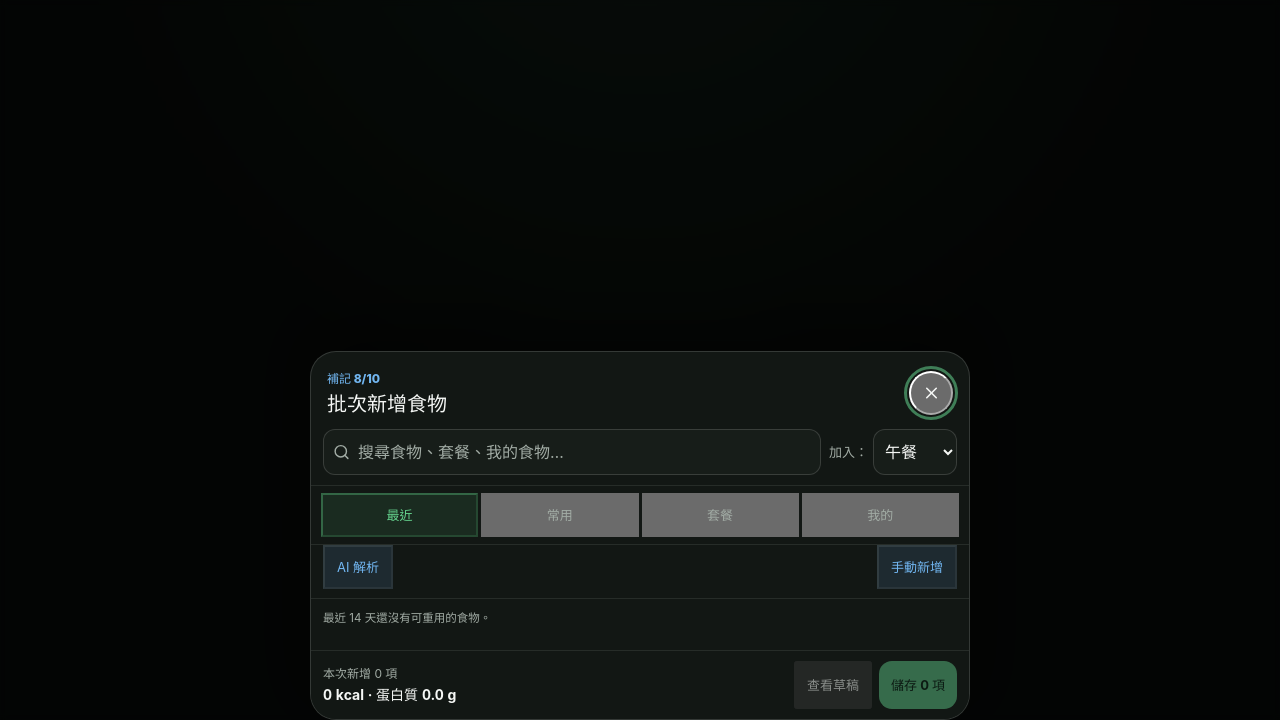
Test: FoodAddSheet batch draft interactions › always lets a search query become a prefilled manual food
Type "自製雞肉捲" into the field with placeholder "搜尋食物、套餐、我的食物…" at (572, 452), box [323,429,821,475]
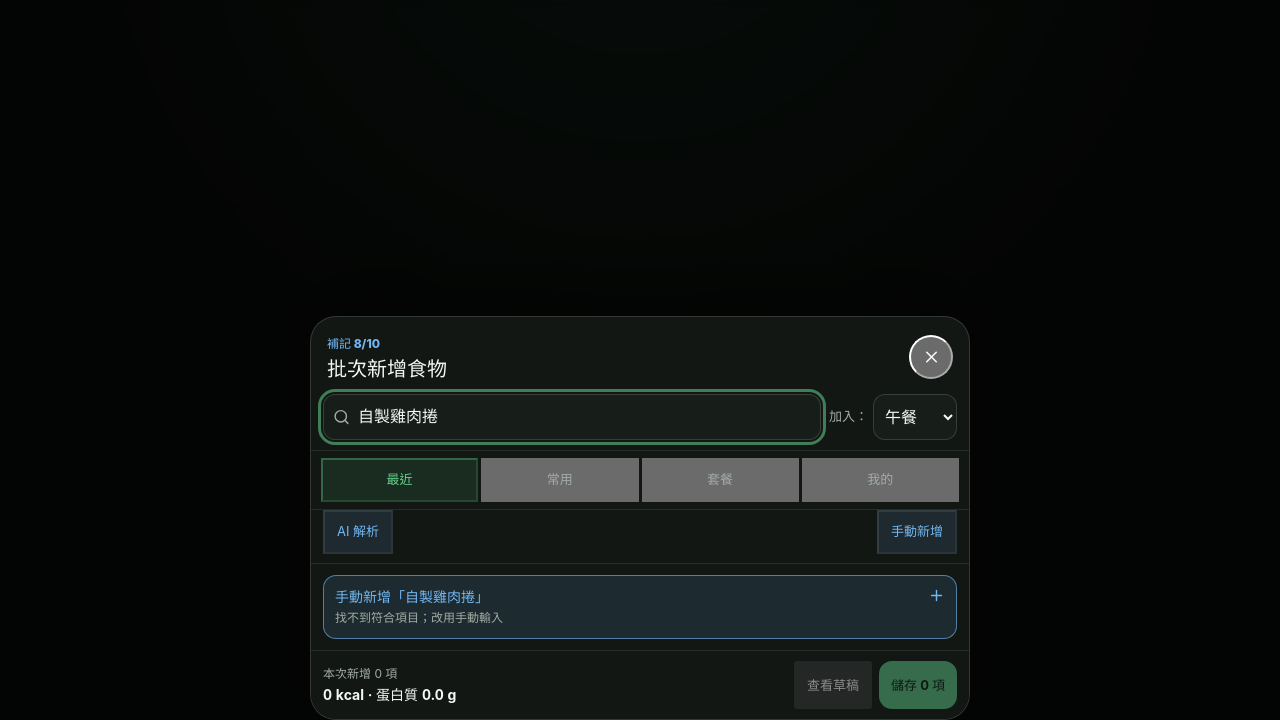
Click the button "手動新增「自製雞肉捲」 找不到符合項目；改用手動輸入" at (370, 596), box [323,575,957,639]
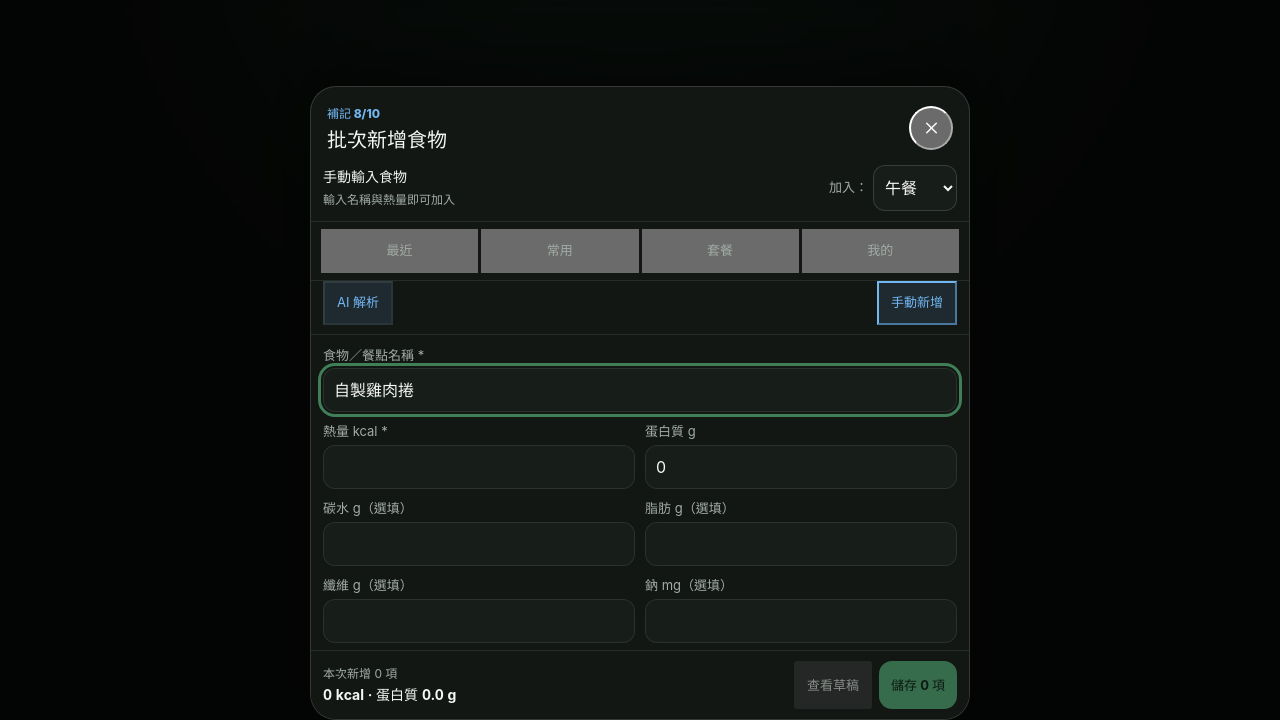
Expected: the field with placeholder "例如：公司午餐" holds "自製雞肉捲", [323,368,957,412]
Expected: the field labelled "搜尋食物" is gone
